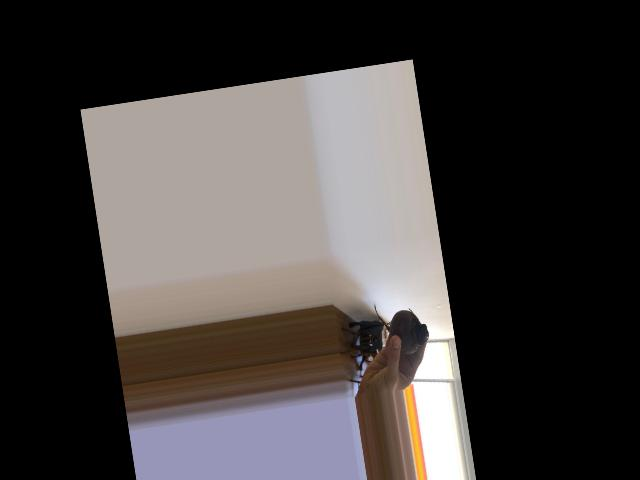beet: (373, 294, 431, 358)
